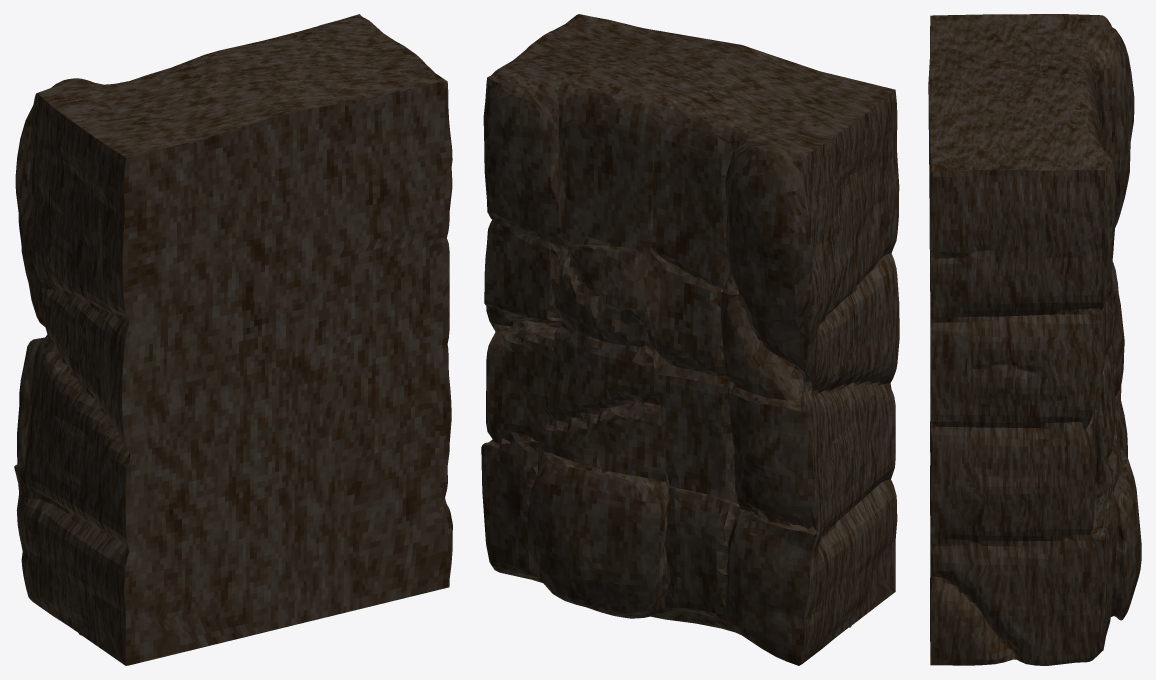
Rendered from cave-wall1.glb.
3 views of the same model, side by side, from view 1: azimuth 30°, elevation 25°; view 2: azimuth 150°, elevation 25°; view 3: azimuth 270°, elevation 25° (orthographic). The views are drawn at different scales.
Parts seen in each view (by area): view 1: Cube.001; view 2: Cube.001; view 3: Cube.001.
Part boxes in pixels (<box>): Cube.001: <box>14,14,452,665</box>; Cube.001: <box>481,14,899,665</box>; Cube.001: <box>928,14,1141,665</box>.
Bounding box in the file's own units: 4.34 × 6.18 × 2.34.
Materials: 1 (1 with a texture image).
